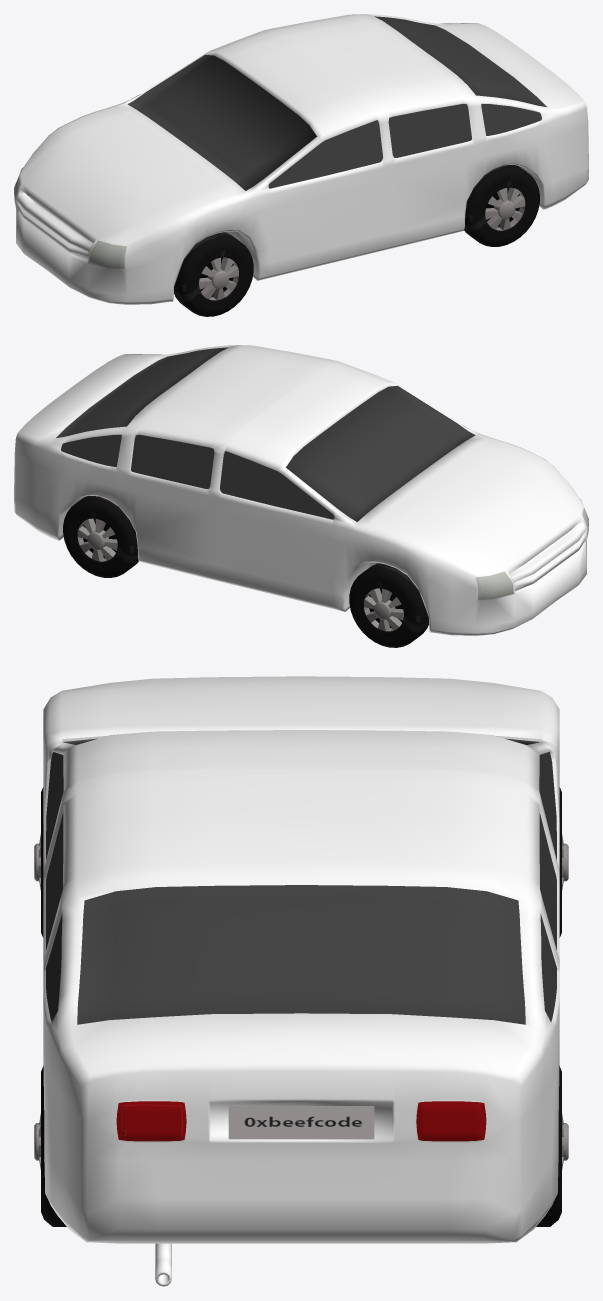
File: Sedan_1.fbx
3 renders of one model, top to bottom at view 1: azimuth 30°, elevation 25°; view 2: azimuth 150°, elevation 25°; view 3: azimuth 270°, elevation 25°, orthographic. The views are drawn at different scales.
Visible parts, largest first — view 1: Cube; view 2: Cube; view 3: Cube.
Part boxes in pixels (box(x1,y1,x2,y2)): Cube: box(14, 14, 588, 316); Cube: box(14, 345, 588, 647); Cube: box(34, 676, 568, 1286).
Size of the model in its own units: 1999 by 635 by 929.
